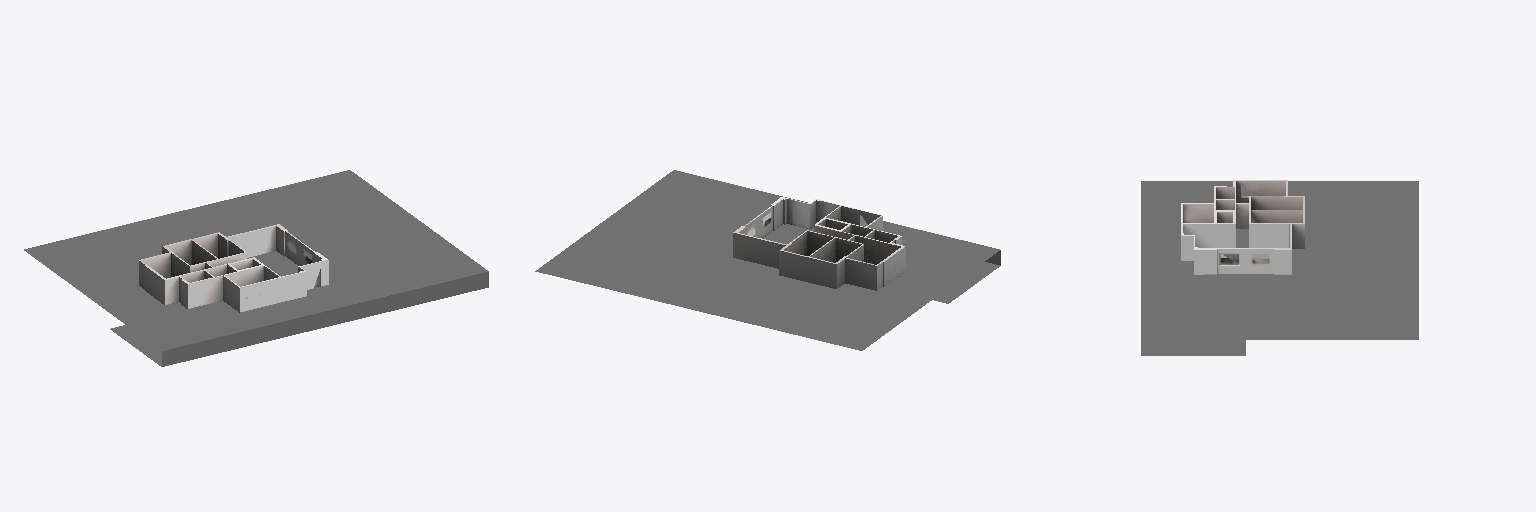
3 renders of one model, left to right at view 1: azimuth 30°, elevation 25°; view 2: azimuth 150°, elevation 25°; view 3: azimuth 270°, elevation 25°, orthographic.
Visible parts, largest first — view 1: polySurface447; view 2: polySurface447; view 3: polySurface447.
Part boxes in pixels (bbox=[...]): polySurface447: bbox=[24, 170, 488, 366]; polySurface447: bbox=[535, 170, 1000, 350]; polySurface447: bbox=[1141, 180, 1418, 355].
Bounding box in the file's own units: 19.03 × 2.29 × 13.99.
2 materials, 1 textured.